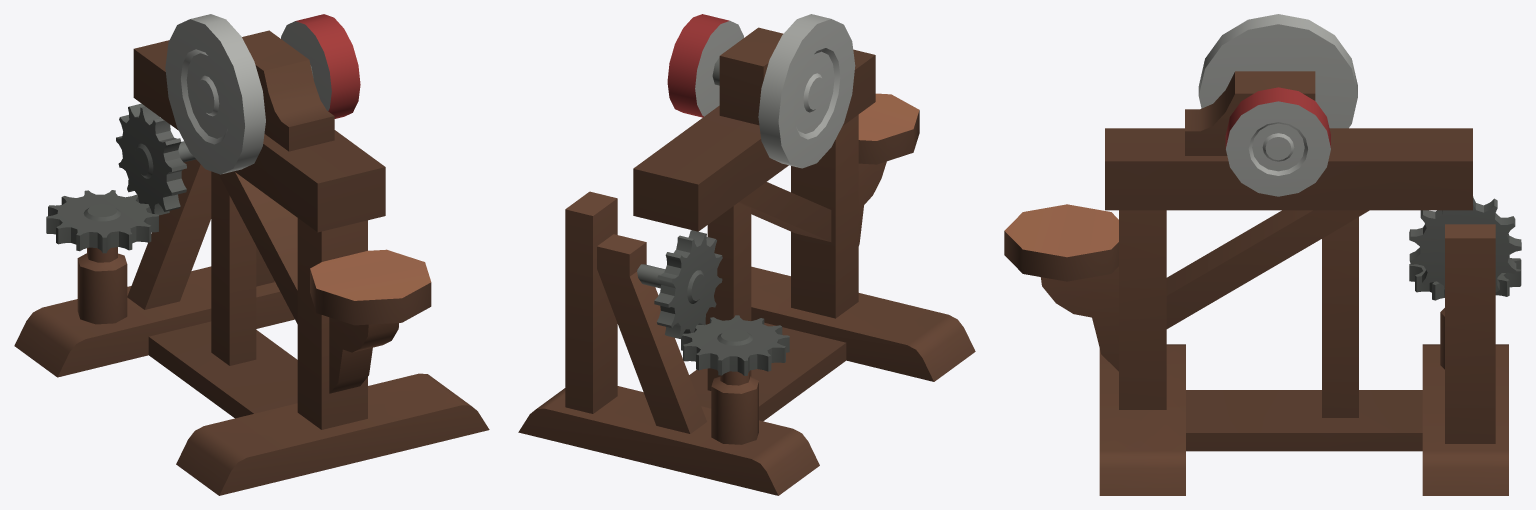
File: whet_machine1.fbx
The picture shows the model from 3 angles, left to right: view 1: azimuth 30°, elevation 25°; view 2: azimuth 150°, elevation 25°; view 3: azimuth 270°, elevation 25°; orthographic projection. The views are drawn at different scales.
Visible parts, largest first — view 1: whet_machine1; view 2: whet_machine1; view 3: whet_machine1.
Part boxes in pixels (<box>): whet_machine1: <box>14,14,489,495</box>; whet_machine1: <box>518,14,975,495</box>; whet_machine1: <box>1004,14,1521,495</box>.
Bounding box in the file's own units: 11.59 × 15.86 × 19.2.
